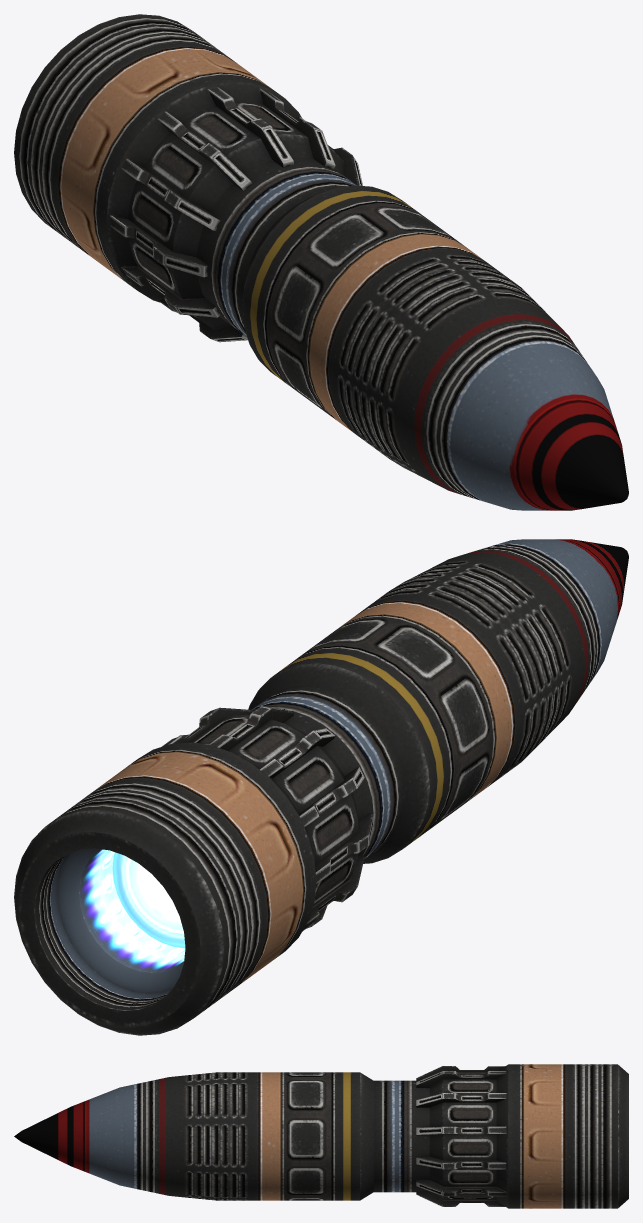
File: MTS8NuclearMissile.fbx
3 renders of one model, top to bottom at view 1: azimuth 30°, elevation 25°; view 2: azimuth 150°, elevation 25°; view 3: azimuth 270°, elevation 25°, orthographic. The views are drawn at different scales.
Visible parts, largest first — view 1: MTS8NuclearMissile; view 2: MTS8NuclearMissile; view 3: MTS8NuclearMissile.
Part boxes in pixels (box(x1,y1,x2,y2)): MTS8NuclearMissile: box(14, 14, 628, 510); MTS8NuclearMissile: box(14, 539, 628, 1035); MTS8NuclearMissile: box(14, 1064, 628, 1208).
Size of the model in its own units: 1396 by 1396 by 5952.
